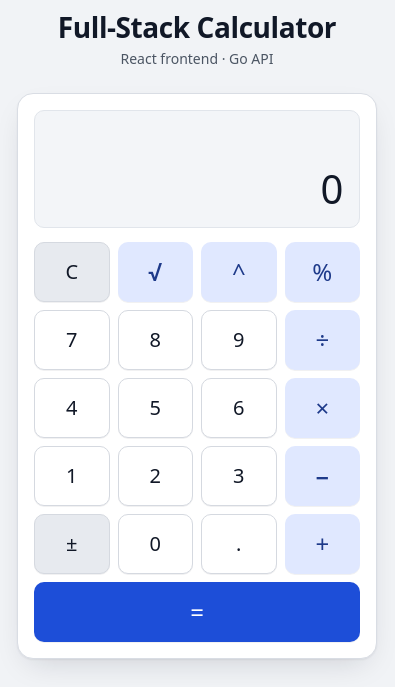
Test: App › square root › shows a clear message when the API rejects a negative number
The width and height of the screenshot is (395, 687).
What coordinates should you click on to do the following:
click the button "9"
I would click on:
 (239, 340)
Its box is left=201, top=310, right=276, bottom=370.
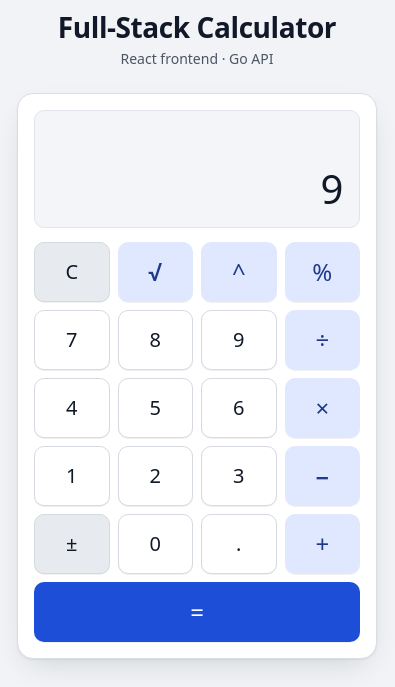
What coordinates should you click on to do the following:
click the button named "Toggle sign"
I would click on:
 (72, 544)
Its box is left=34, top=514, right=110, bottom=574.
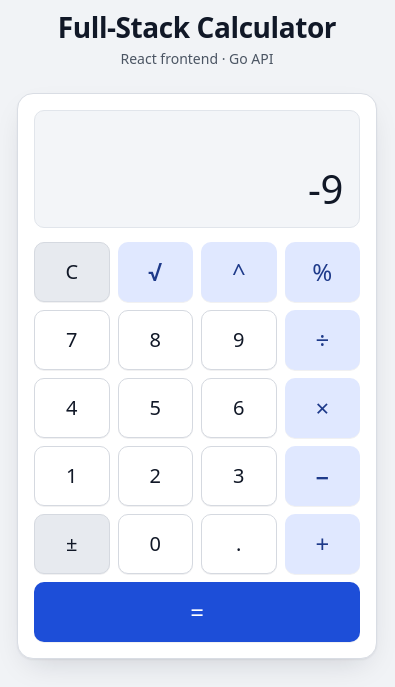
What coordinates should you click on to do the following:
click the button named "Square root"
I would click on:
 (155, 272)
Its box is left=118, top=242, right=193, bottom=302.
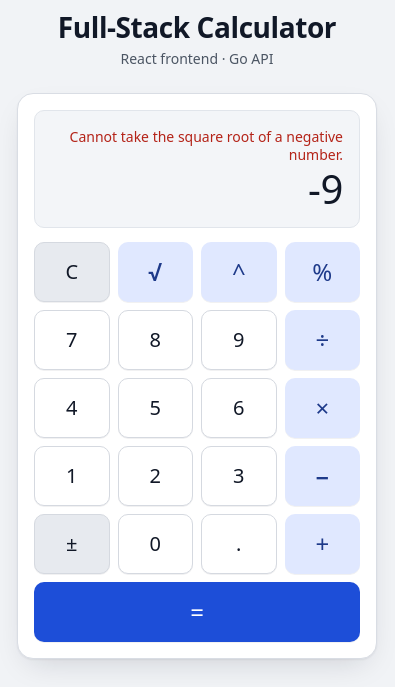
Result: the message reads "Cannot take the square root of a negative number." at left=70, top=127, right=343, bottom=164
